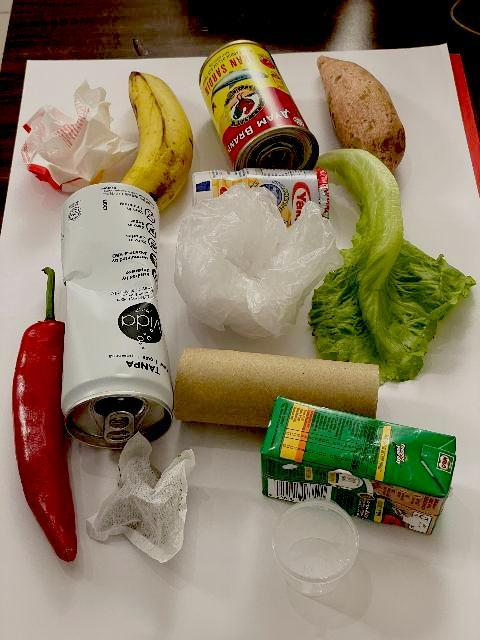banana: (120, 70, 194, 216)
chilli: (11, 266, 79, 562)
drinkcan: (59, 182, 175, 450)
drinkpack: (259, 394, 457, 536)
foodcan: (198, 39, 320, 180)
lettuce: (307, 148, 477, 388)
paperbag: (21, 80, 139, 192)
plasticcontainer: (270, 493, 360, 599)
sweetpotato: (316, 55, 406, 175)
teabag: (86, 428, 197, 566)
tissueroll: (174, 346, 380, 440)
